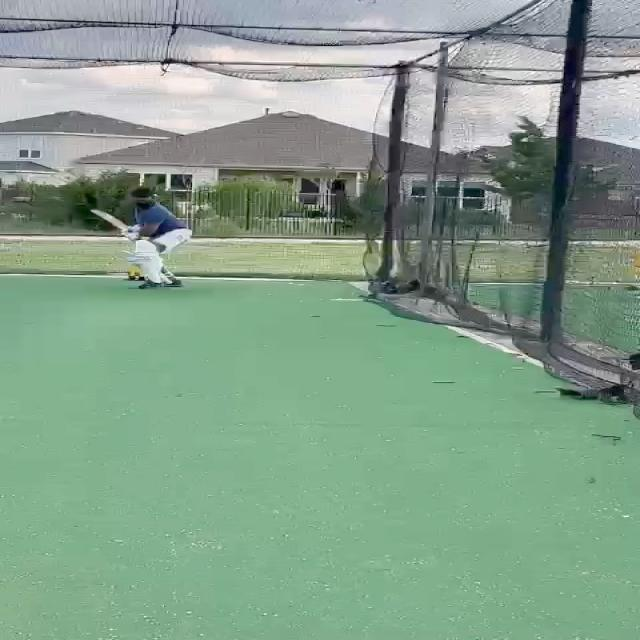batsman: (89, 186, 194, 290)
